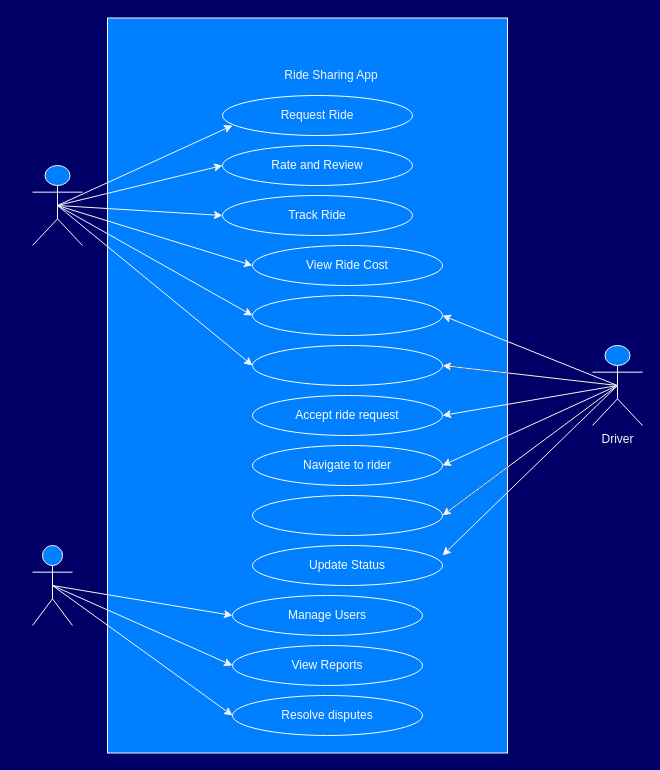
Some shapes in this 660 by 770 pixel diagram are drawn without their labels. The box of each missing label's shape, as (x1, y1, x2, y2) in pixels:
Administrator: (32, 544, 72, 626)
Cancel Ride: (252, 294, 442, 336)
Register/Login: (252, 344, 442, 386)
Rider: (32, 164, 82, 246)
View Earnings: (252, 494, 442, 536)
